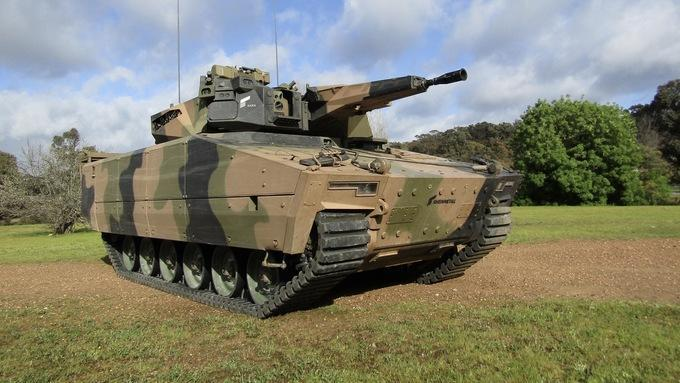MIL_IFV: (83, 60, 526, 318)
